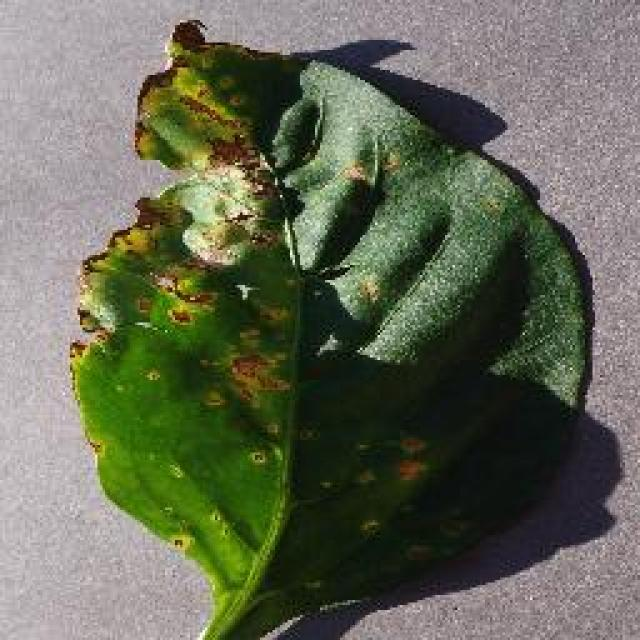Chilli_Bacterial_Spot: (62, 15, 598, 637), (65, 15, 307, 637), (128, 15, 302, 173), (167, 162, 275, 270), (177, 215, 255, 270), (165, 15, 210, 55), (225, 347, 270, 385), (195, 380, 230, 415), (475, 190, 507, 222), (352, 275, 382, 307), (352, 512, 382, 542), (163, 302, 195, 330), (165, 527, 195, 555), (242, 442, 270, 470), (137, 362, 165, 388)
